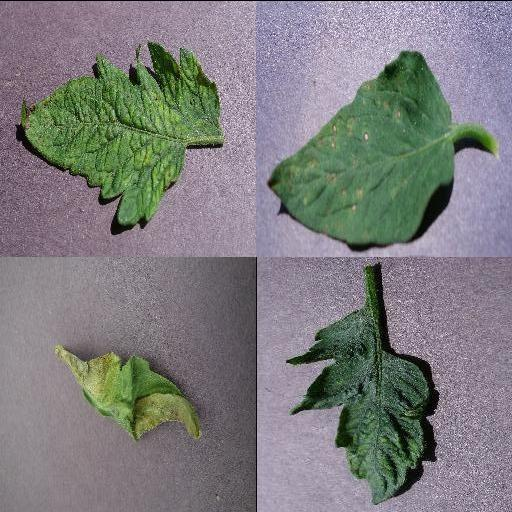Late Blight: (58, 344, 202, 440)
Mosaic Virus: (18, 41, 222, 225), (285, 302, 435, 506)
Septoria: (269, 48, 455, 242)
